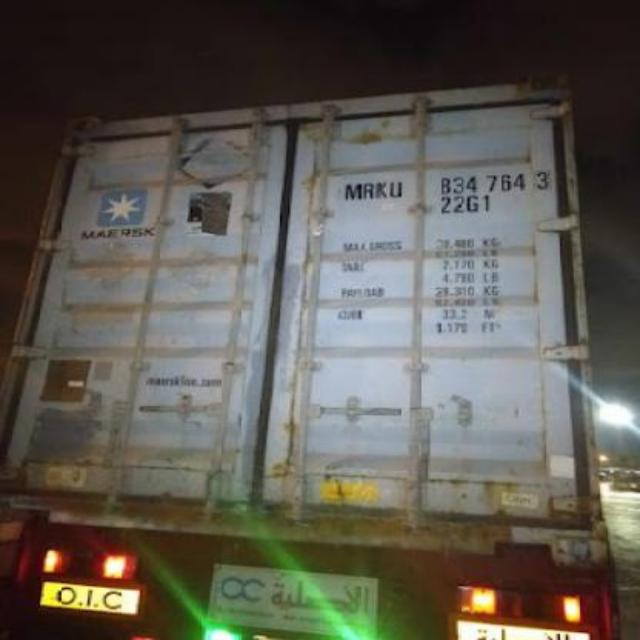3: (536, 170, 550, 190), (452, 176, 466, 194)
4: (512, 172, 528, 192), (466, 177, 479, 193)
6: (500, 173, 512, 191)
7: (484, 175, 500, 191)
8: (438, 176, 452, 194)
K: (374, 182, 388, 198)
M: (344, 183, 364, 201)
R: (362, 182, 376, 200)
U: (388, 180, 406, 198)
